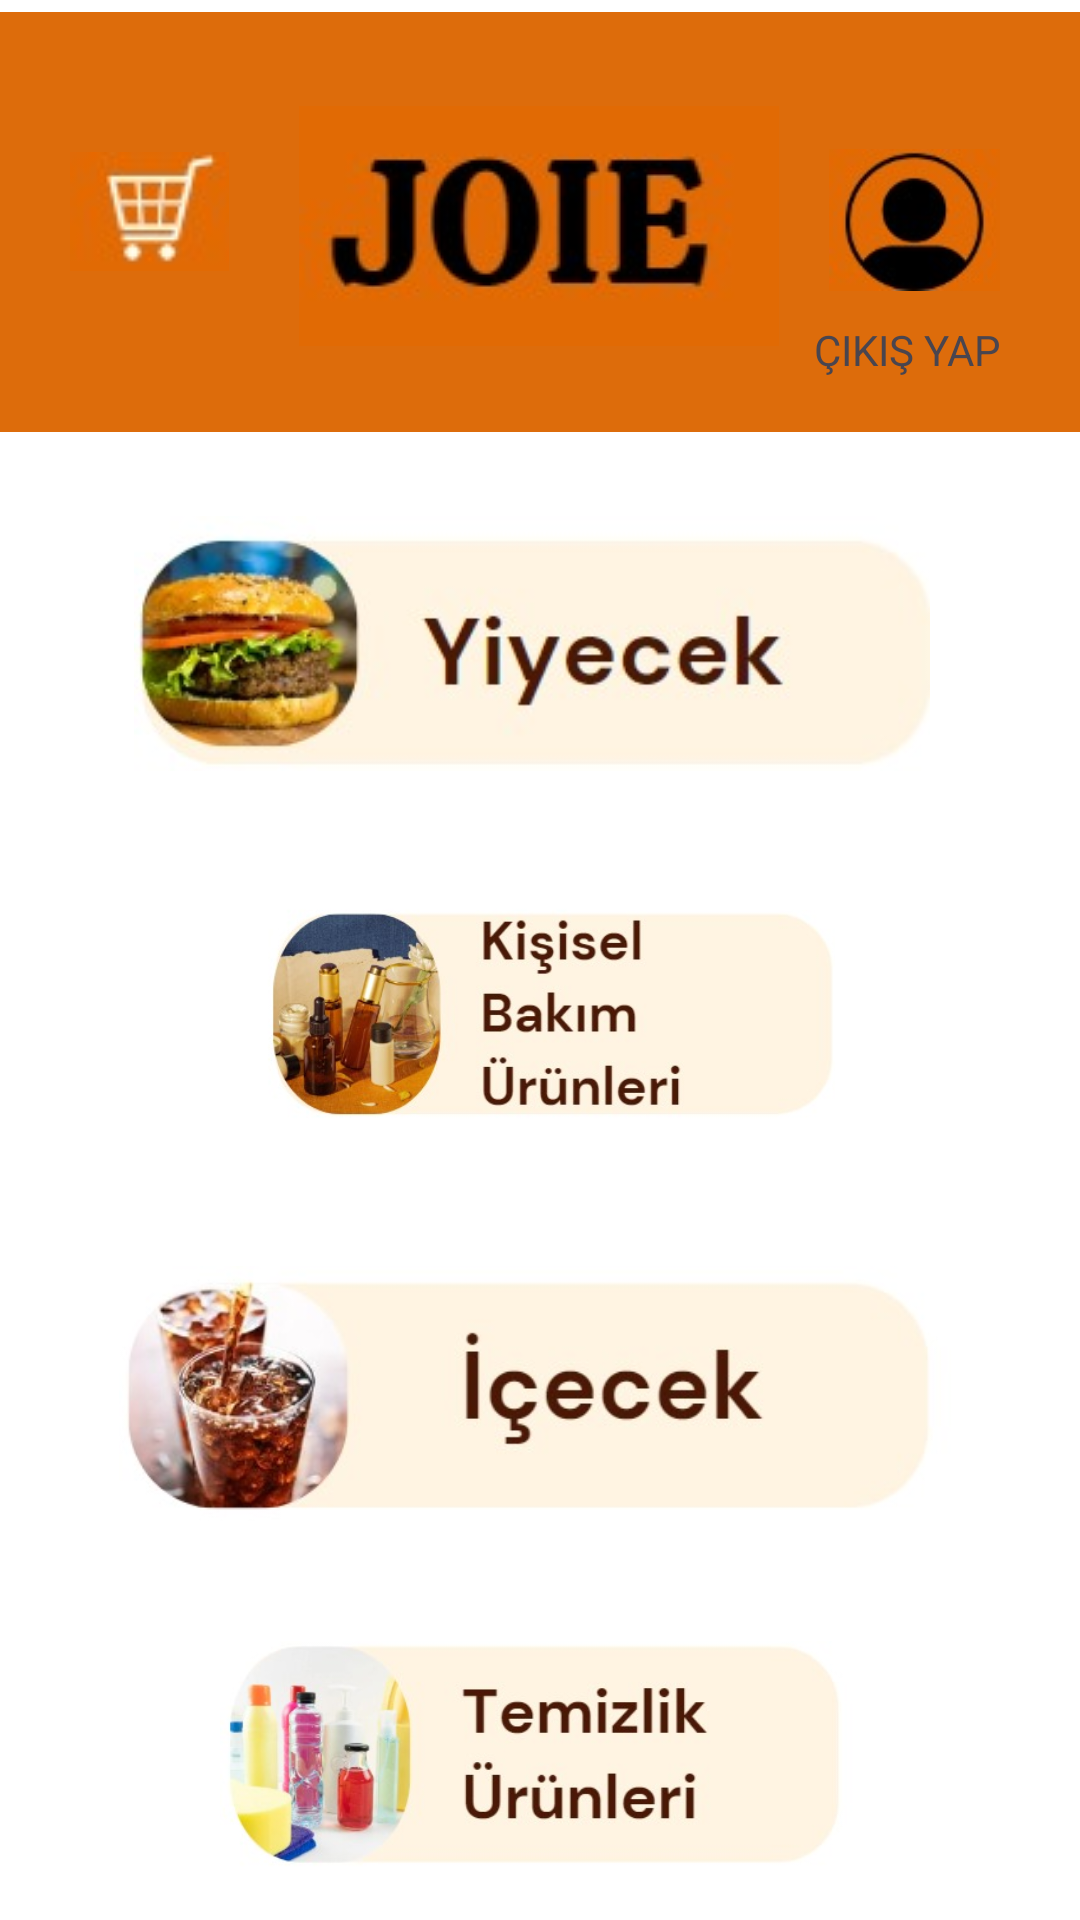

Icon click points for this 1080w x 1920h phone screenshot, format [x,y]:
insan: [915,221]
